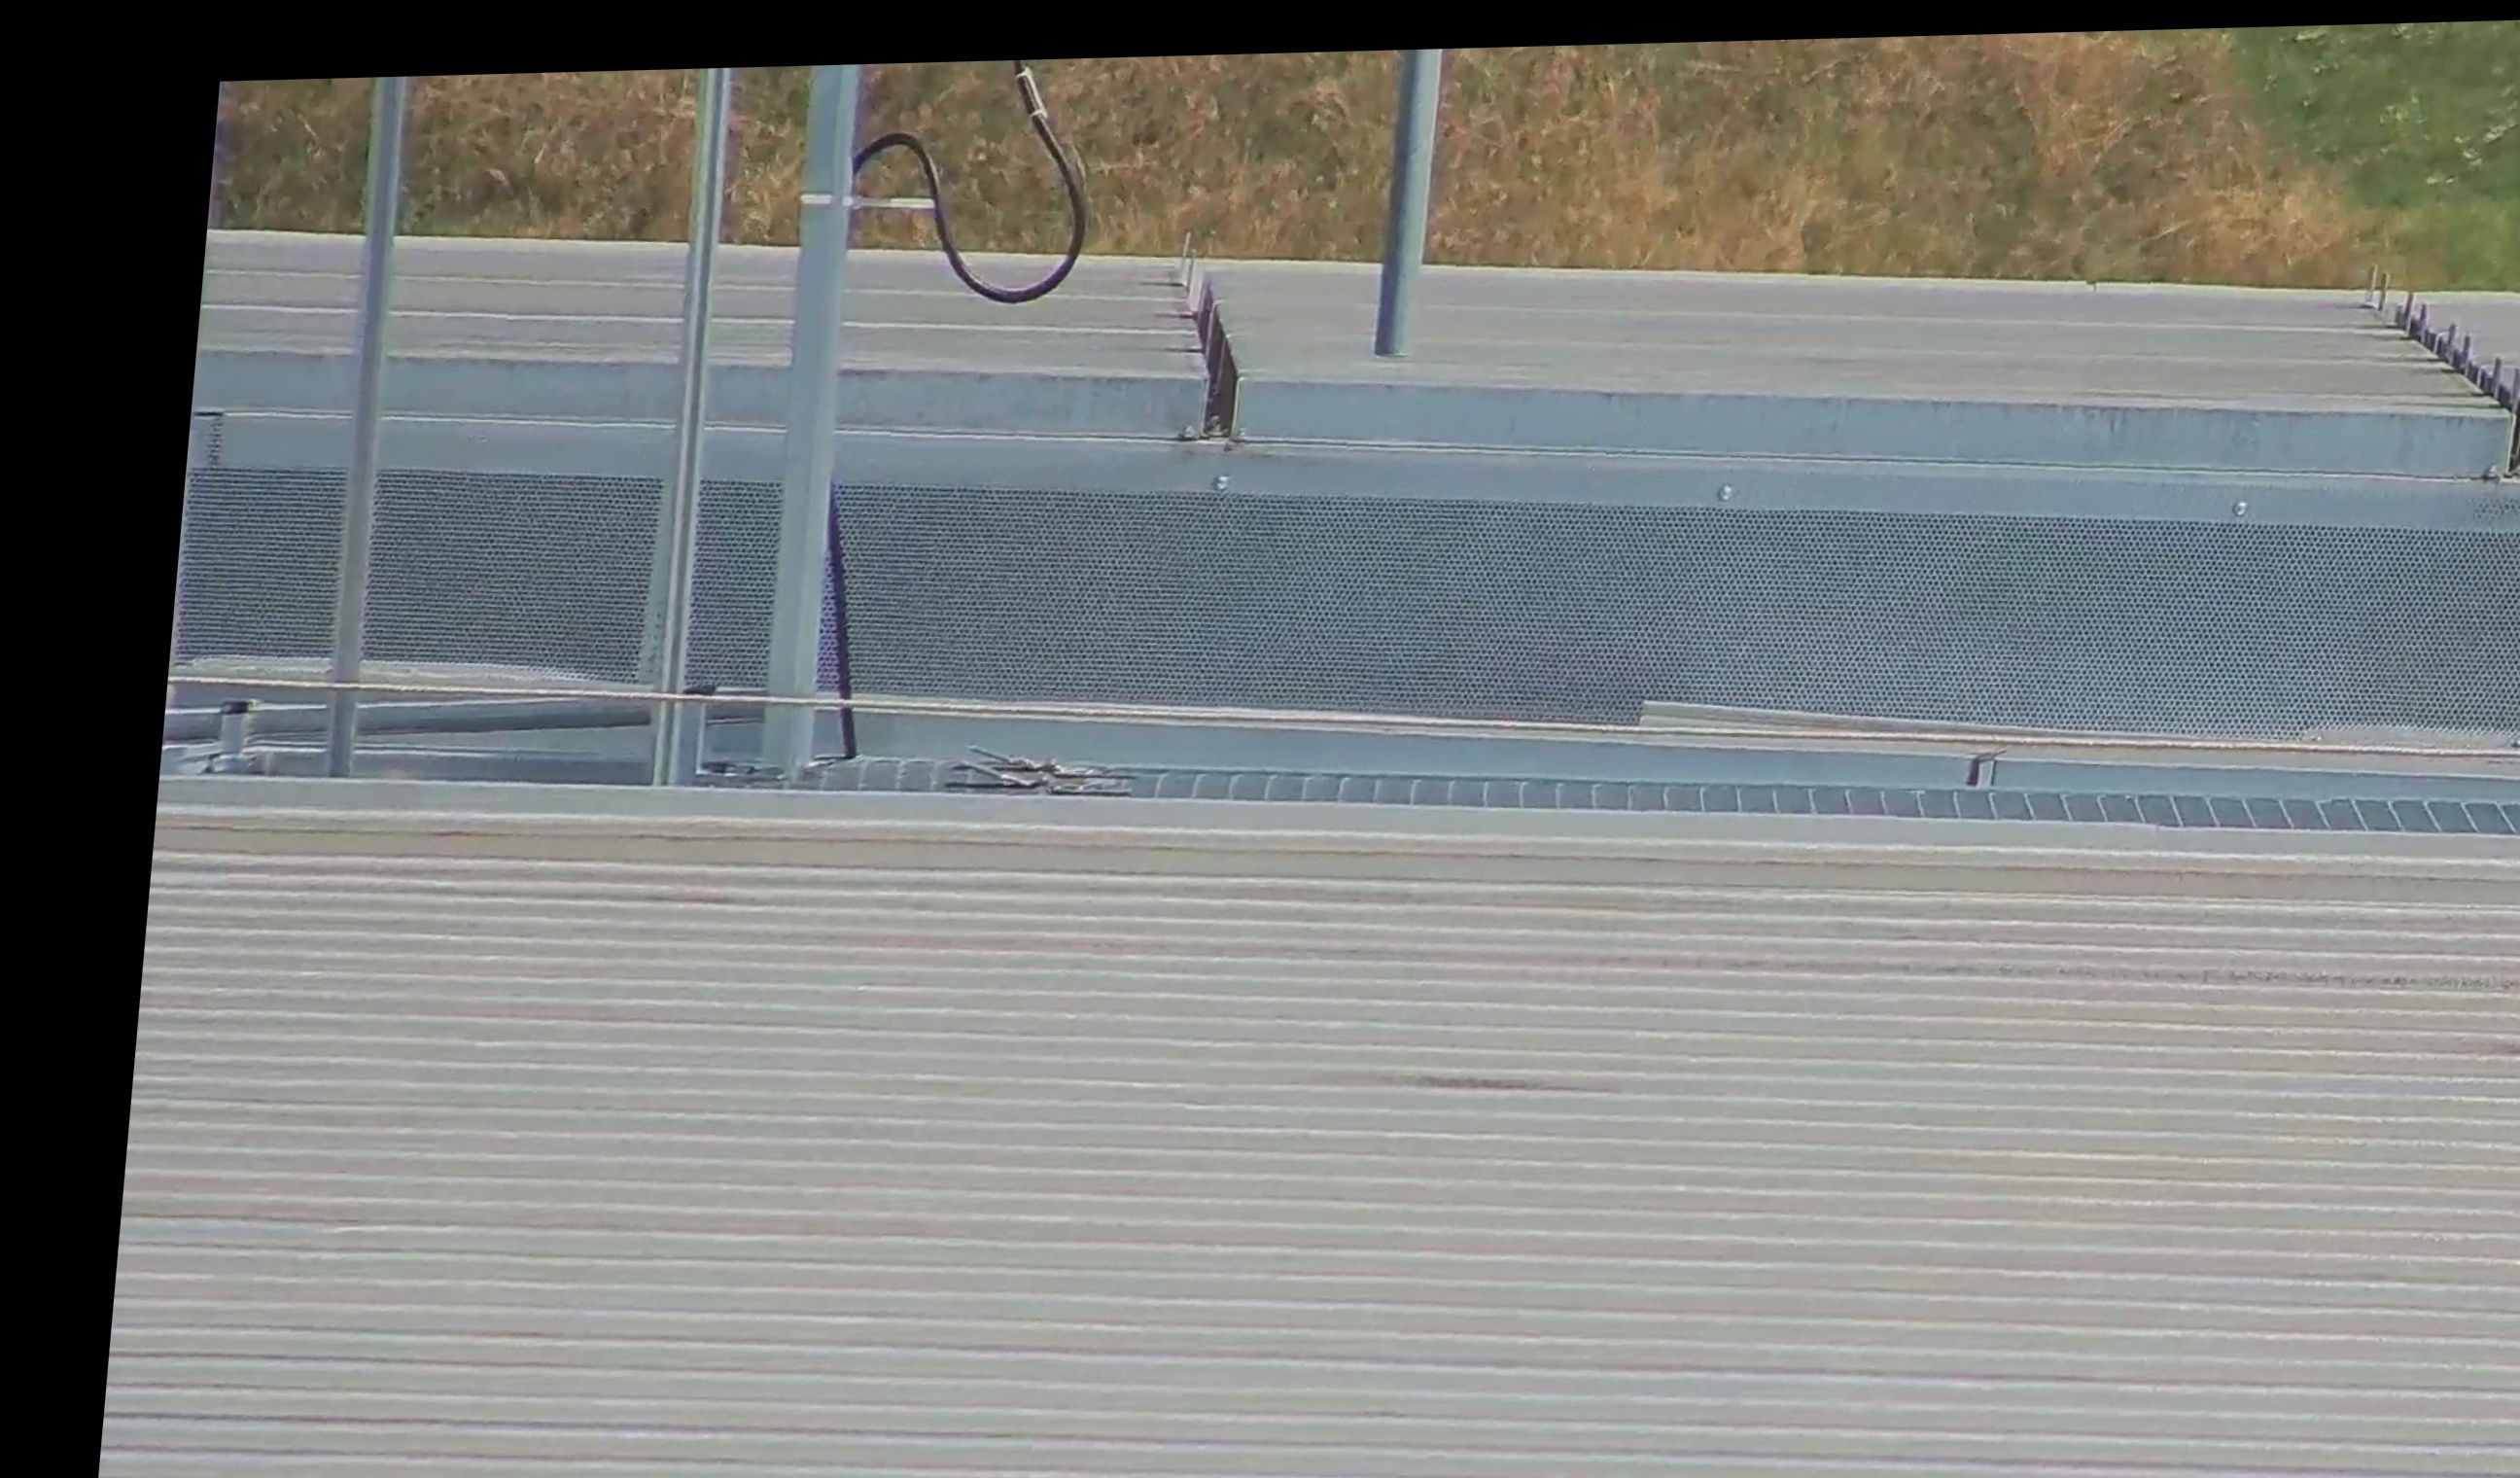Other: (1133, 250, 1268, 443)
